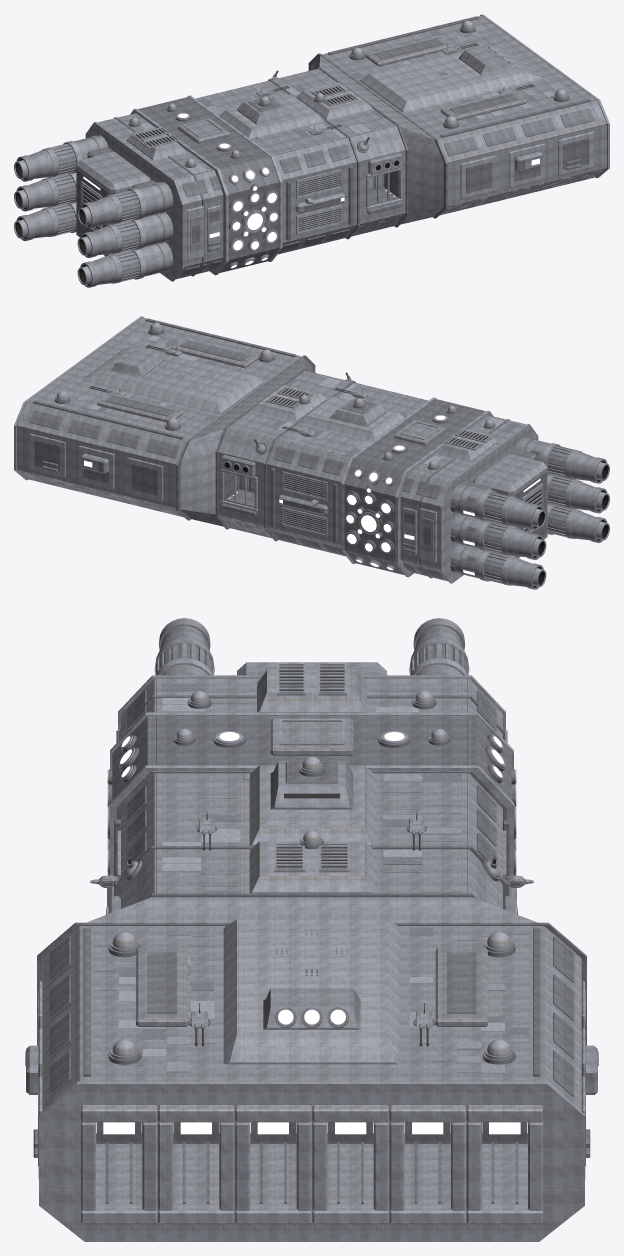
3 views of the same model, one above another, from view 1: azimuth 30°, elevation 25°; view 2: azimuth 150°, elevation 25°; view 3: azimuth 270°, elevation 25° (orthographic). The views are drawn at different scales.
Visible parts, largest first — view 1: bow_bow_mid, mid_mid, bow_light, bow_dark, bow_mid, ring_dark, stern_mid, stern_light, hangar_hull_mid, ring_light, engines.thruster.001, engines.thruster.003 (+14 smaller); view 2: bow_bow_mid, mid_mid, bow_light, bow_dark, bow_mid, ring_dark, stern_mid, stern_light, hangar_hull_mid, ring_light, engines.thruster, engines.thruster.002 (+14 smaller); view 3: bow_light, bow_bow_mid, bow_bow_light, bow_dark, bow_mid, mid_mid, ring_dark, hangar_hull_mid, stern_mid, ring_light, mid_light, stern_light (+10 smaller).
Boxes of the visible parts, x1,y1,x2,y2 form: bow_bow_mid: (322,15,606,213); mid_mid: (196,80,356,254); bow_light: (359,45,593,199); bow_dark: (308,16,594,227); bow_mid: (311,36,542,224); ring_dark: (138,97,279,272); stern_mid: (76,113,223,279); stern_light: (80,122,220,281); hangar_hull_mid: (273,68,405,236); ring_light: (130,95,282,275); engines.thruster.001: (77,182,173,228); engines.thruster.003: (77,212,173,257); bow_bow_mid: (17,317,301,517); mid_mid: (267,382,427,556); bow_light: (30,347,264,501); bow_dark: (29,318,315,529); bow_mid: (81,338,312,526); ring_dark: (344,399,485,574); stern_mid: (400,415,547,581); stern_light: (403,424,543,583); hangar_hull_mid: (218,370,350,537); ring_light: (341,397,493,577); engines.thruster: (450,484,546,530); engines.thruster.002: (450,514,546,559); bow_light: (38,919,585,1224); bow_bow_mid: (42,926,581,1205); bow_bow_light: (39,1081,584,1241); bow_dark: (25,893,598,1203); bow_mid: (26,897,597,1094); mid_mid: (107,761,516,906); ring_dark: (109,716,514,875); hangar_hull_mid: (121,849,502,908); stern_mid: (121,662,502,737); ring_light: (107,712,516,875); mid_light: (117,765,506,880); stern_light: (116,663,507,742).
Size of the model in its own units: 1200 by 311 by 600.
7 materials, 4 textured.
